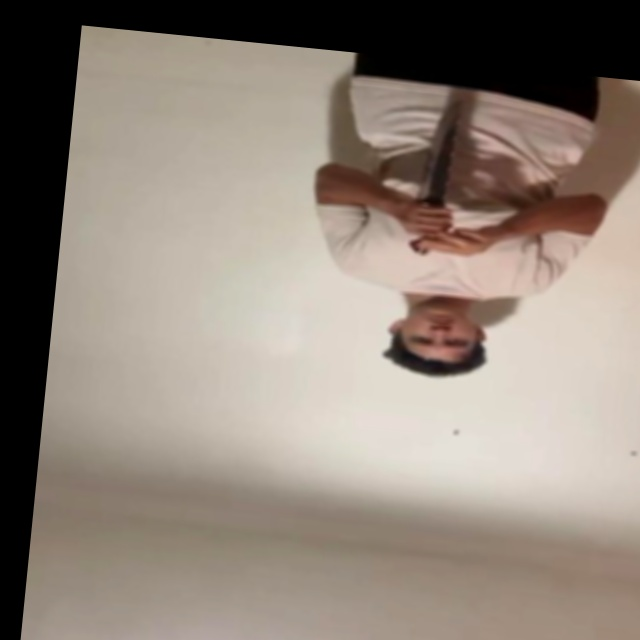Sharp-Object: (418, 100, 466, 205)
